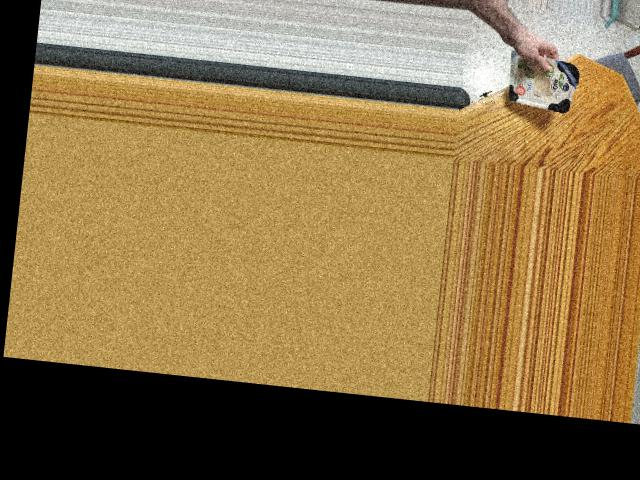cheese: (497, 50, 583, 108)
